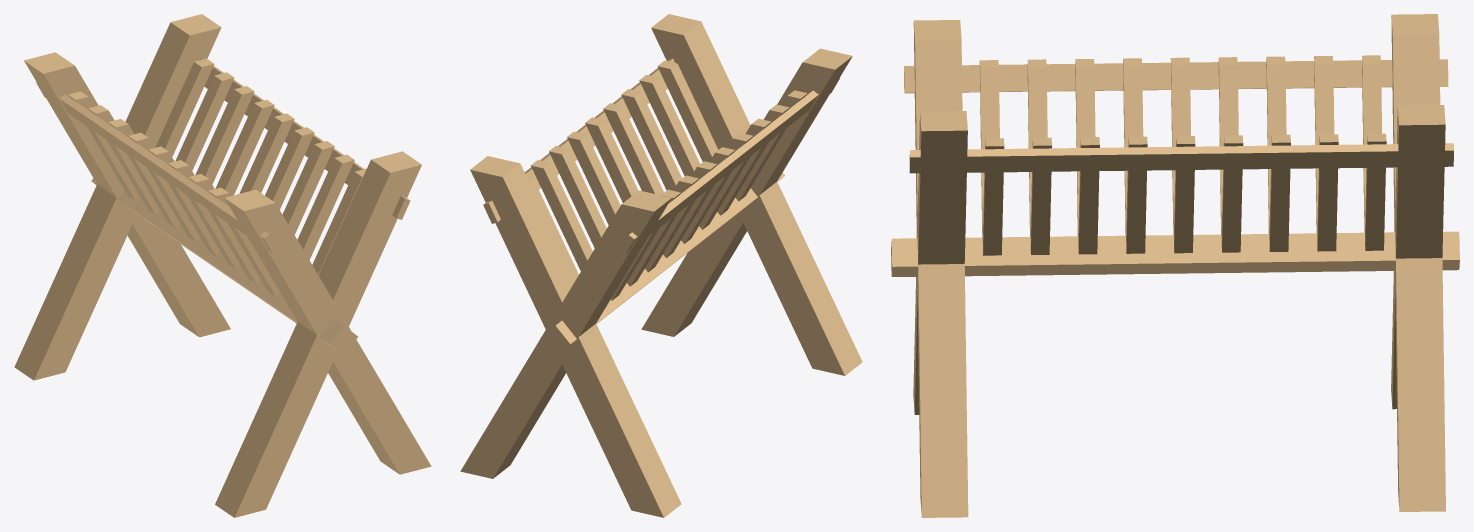
Rendered from rack.fbx.
3 renders of one model, left to right at view 1: azimuth 30°, elevation 25°; view 2: azimuth 150°, elevation 25°; view 3: azimuth 270°, elevation 25°, orthographic. The views are drawn at different scales.
Parts seen in each view (by area): view 1: futterkrippe.001; view 2: futterkrippe.001; view 3: futterkrippe.001.
Boxes of the visible parts, <box> form: futterkrippe.001: <box>14,14,431,517</box>; futterkrippe.001: <box>460,14,862,517</box>; futterkrippe.001: <box>891,14,1459,517</box>.
Bounding box in the file's own units: 0.6389 × 0.8793 × 1.19.
